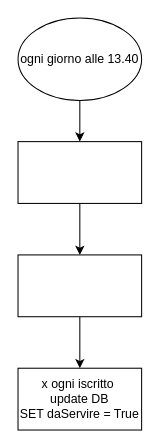
The diagram is 160 pixels wide and 448 high, and some of its shapes have lost their labels. Here are the shapes that lost their labels. From the top down, the centre of each, then its label:
point (79, 172): clean DB SET daServire = false
point (79, 285): query API GET lista iscritti
